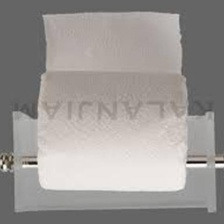tissue: (32, 8, 194, 195)
